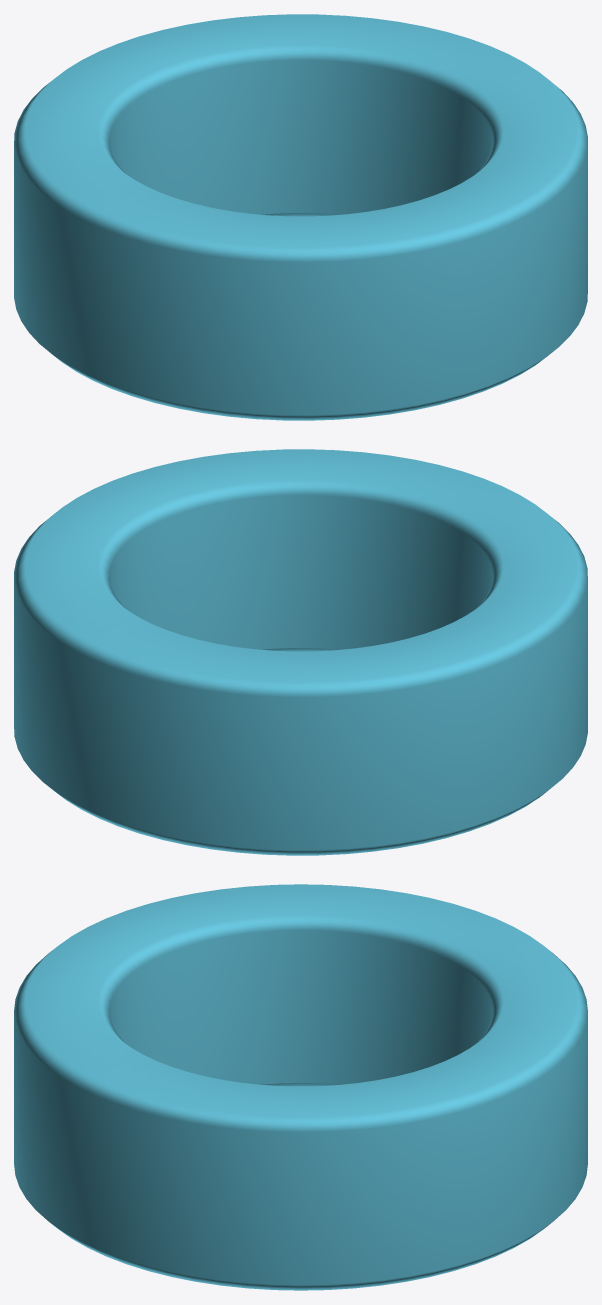
The picture shows the model from 3 angles, top to bottom: view 1: azimuth 30°, elevation 25°; view 2: azimuth 150°, elevation 25°; view 3: azimuth 270°, elevation 25°; orthographic projection.
Parts seen in each view (by area): view 1: seal_body; view 2: seal_body; view 3: seal_body.
Part boxes in pixels (<box>): seal_body: <box>14,14,587,420</box>; seal_body: <box>14,449,587,855</box>; seal_body: <box>14,884,587,1290</box>.
Bounding box in the file's own units: 0.0191 × 0.00635 × 0.0191.
